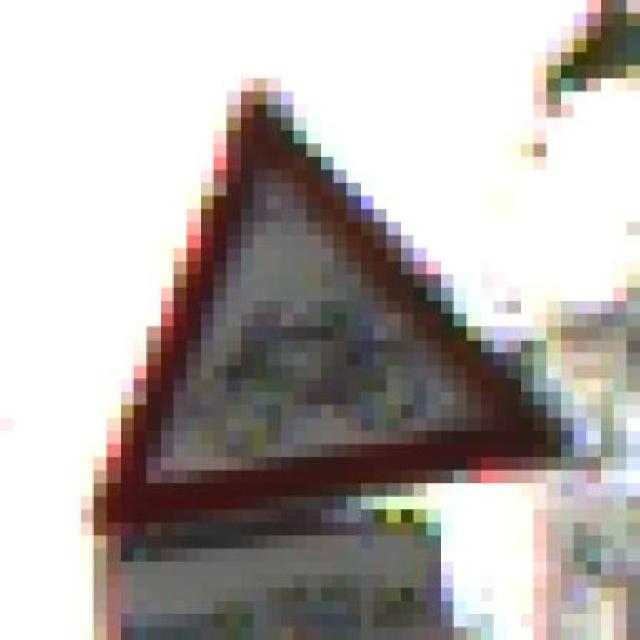CYCLE ROUTE AHEAD WARNING: (53, 78, 587, 536)
